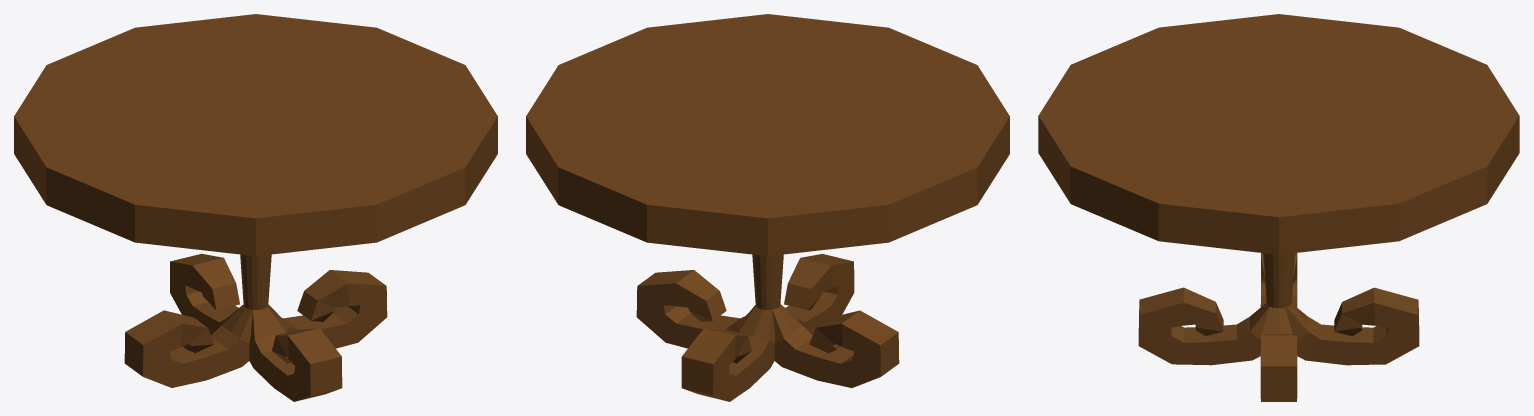
Rendered from LowPolyTableShattered.fbx.
3 views of the same model, side by side, from view 1: azimuth 30°, elevation 25°; view 2: azimuth 150°, elevation 25°; view 3: azimuth 270°, elevation 25° (orthographic).
Parts seen in each view (by area): view 1: Cylinder, Cube, Table; view 2: Cylinder, Cube, Table; view 3: Cylinder, Cube, Table.
Boxes of the visible parts, bbox=[...] form: Cylinder: bbox=[14, 14, 497, 256]; Cube: bbox=[124, 253, 387, 401]; Table: bbox=[240, 254, 271, 309]; Cylinder: bbox=[526, 14, 1009, 256]; Cube: bbox=[636, 254, 899, 401]; Table: bbox=[752, 254, 783, 309]; Cylinder: bbox=[1038, 14, 1519, 254]; Cube: bbox=[1138, 253, 1419, 401]; Table: bbox=[1263, 253, 1294, 308].
Bounding box in the file's own units: 261 × 145 × 261.
